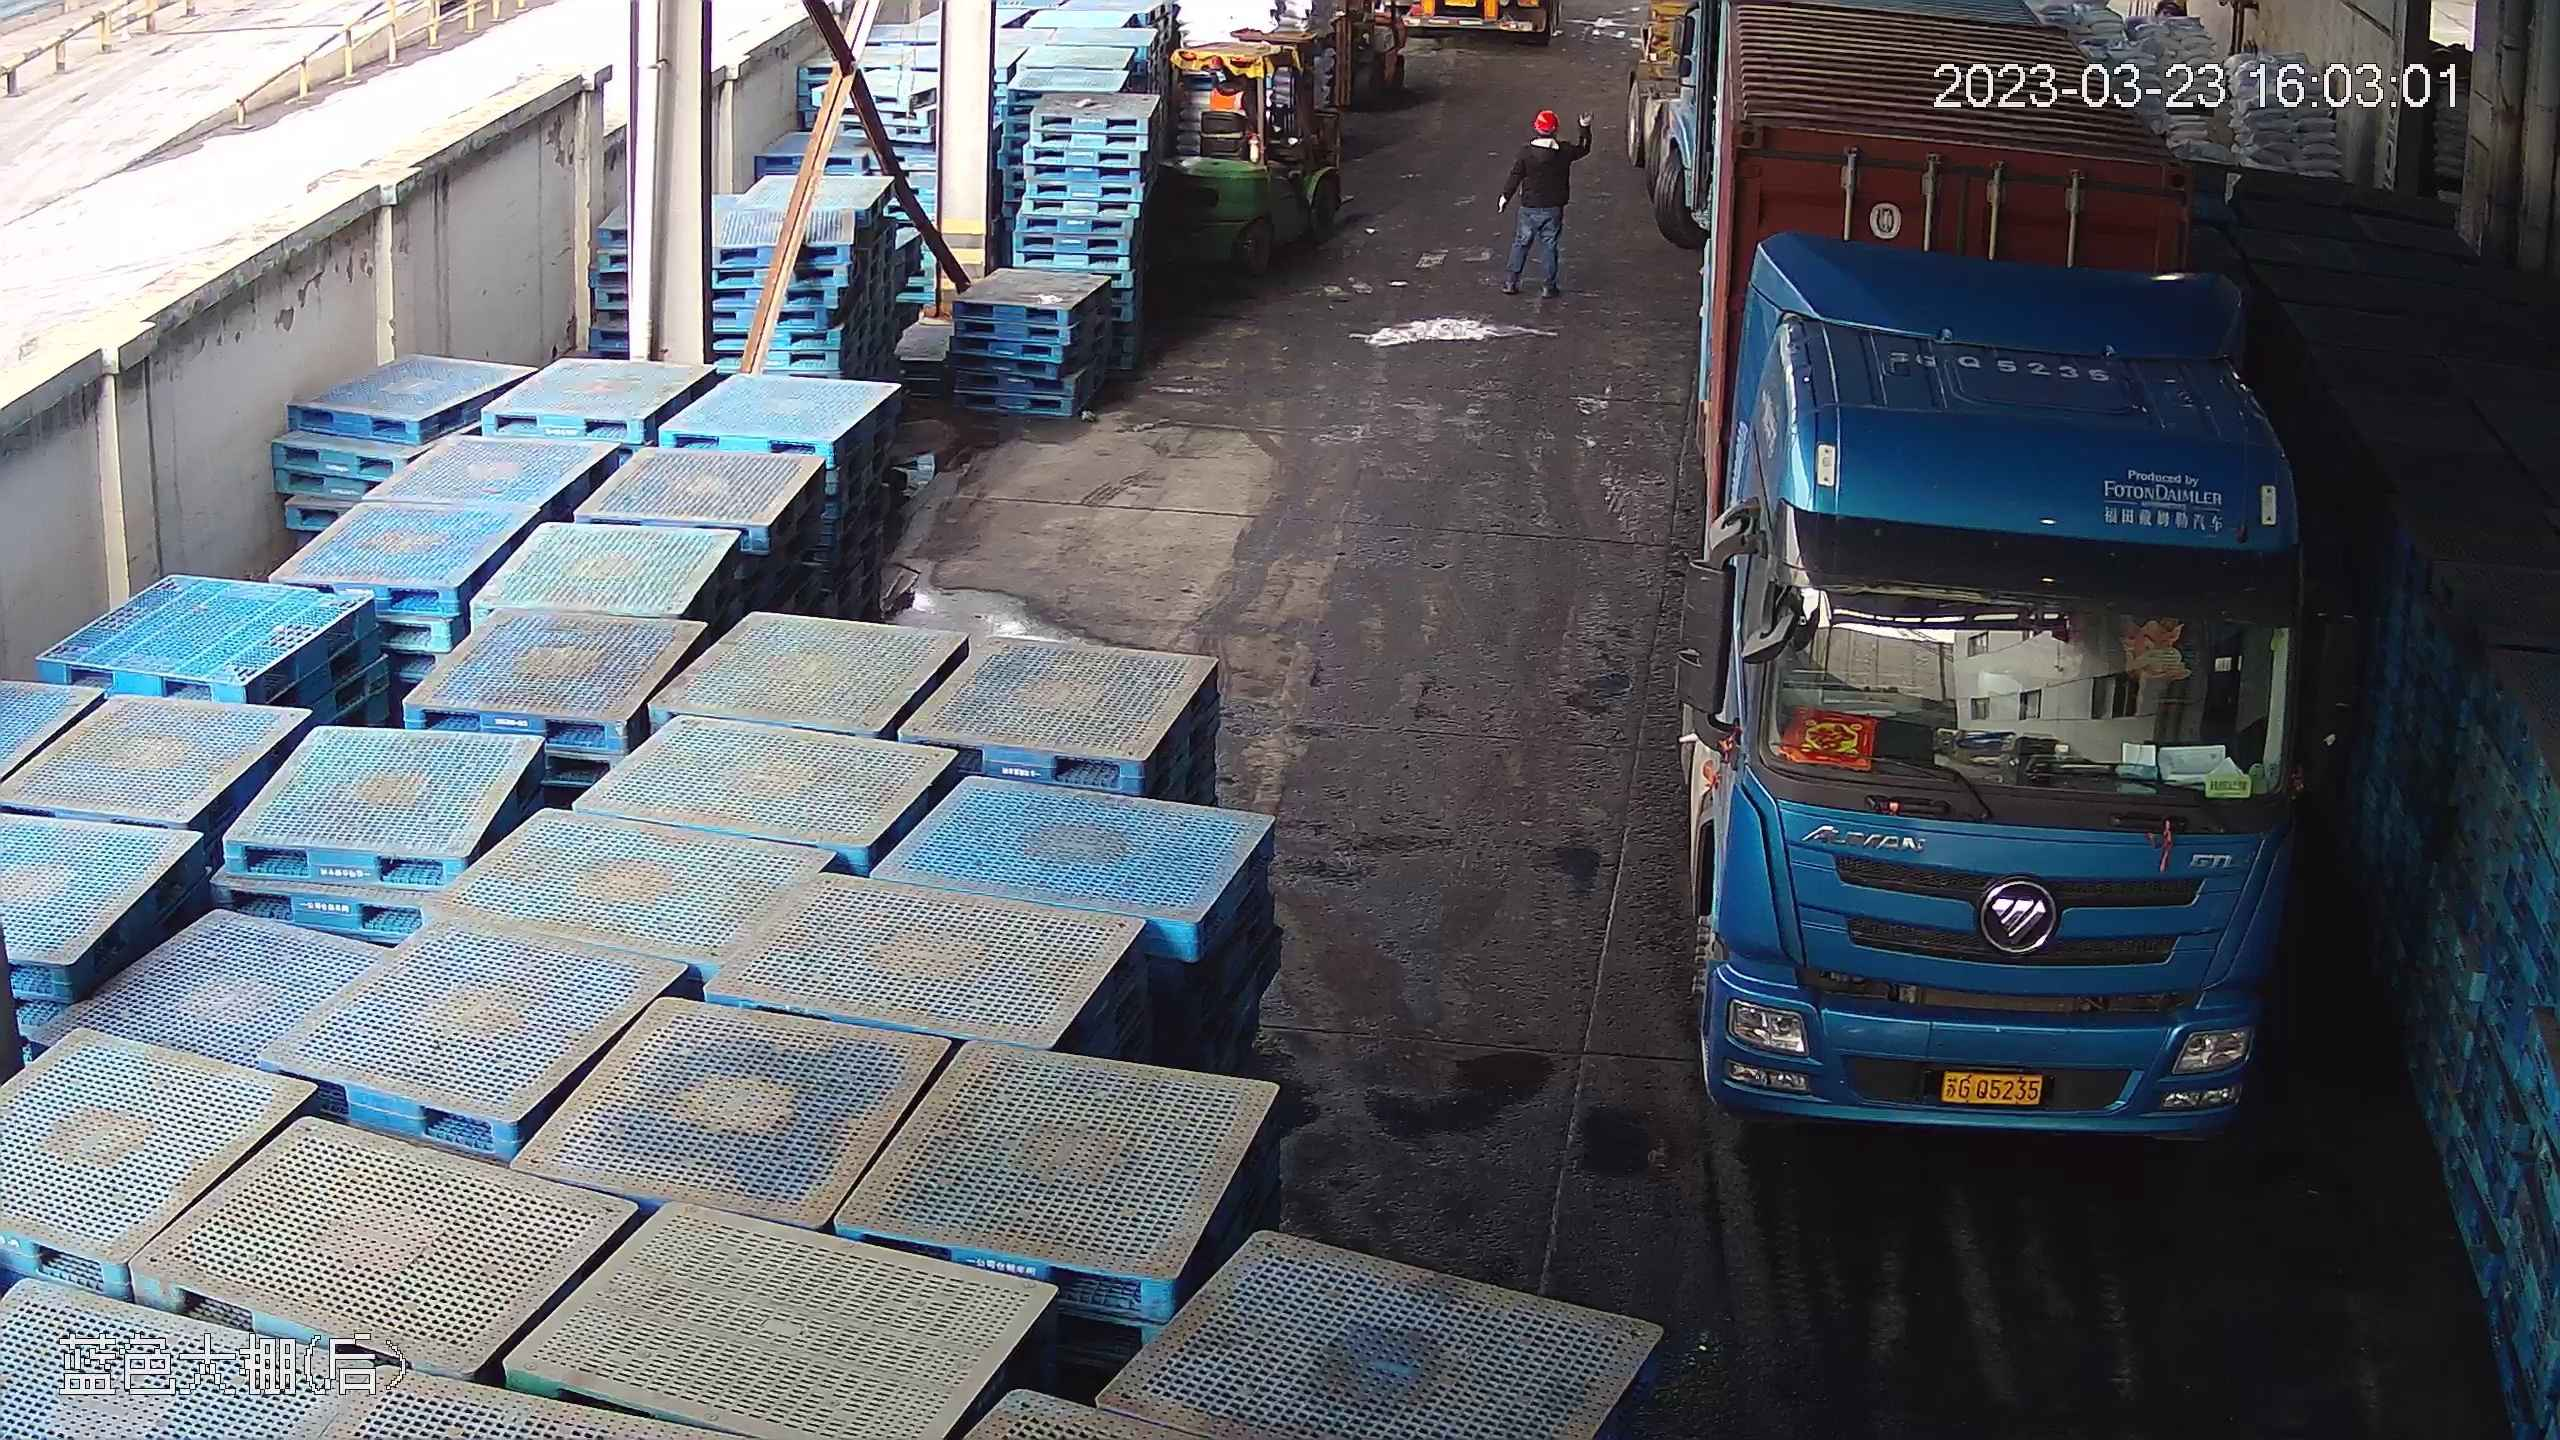head: (1513, 106, 1575, 168)
helmet: (1519, 107, 1575, 167), (1533, 108, 1562, 131)
people: (1499, 104, 1581, 310)
truck: (1664, 33, 2354, 1142)
